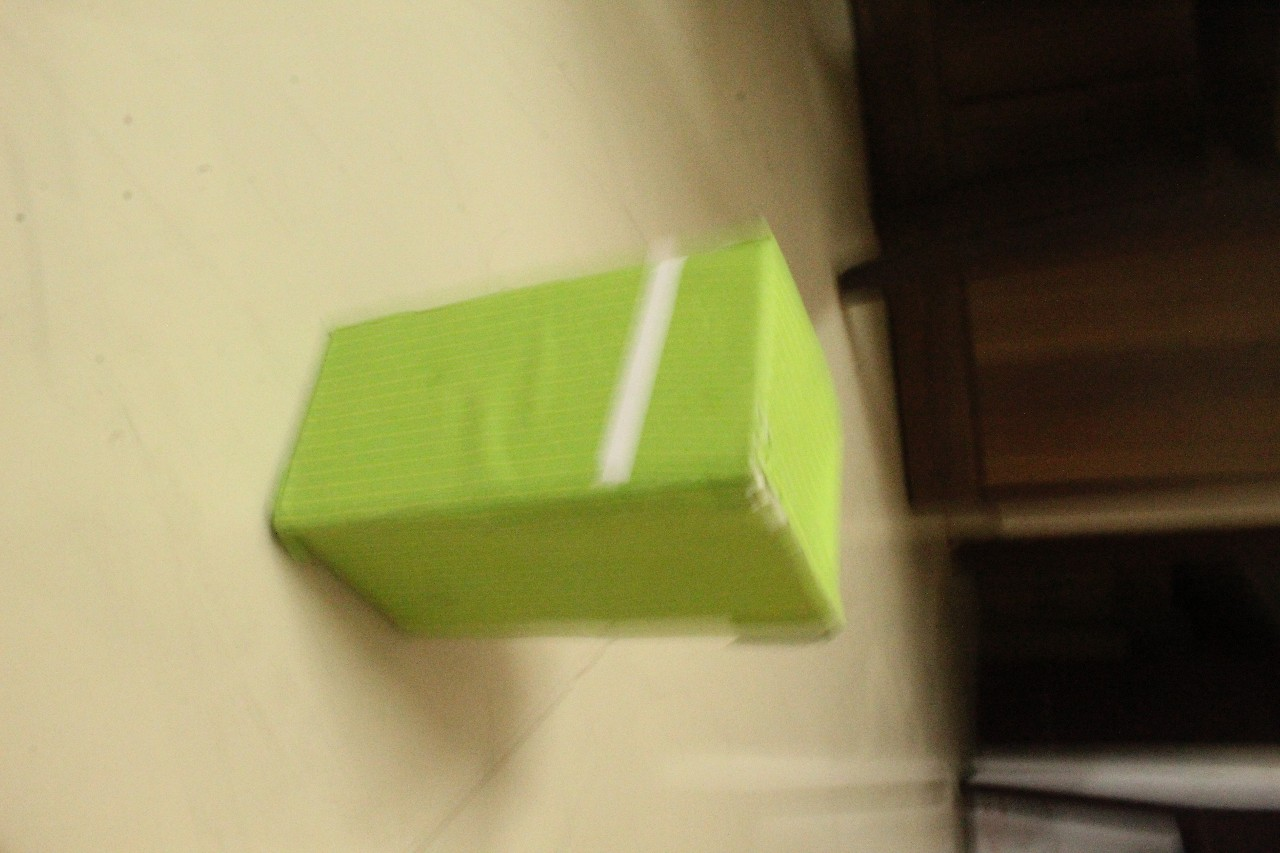green: (235, 198, 875, 660)
red: (967, 384, 1280, 543)
